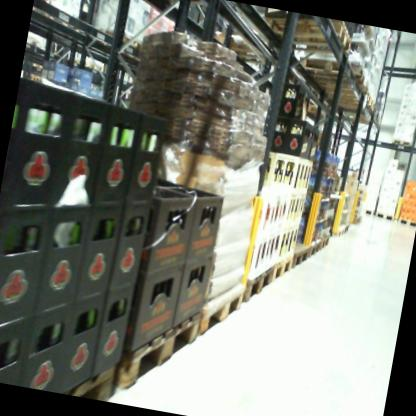pallet: (111, 280, 210, 402), (255, 7, 360, 66), (194, 20, 281, 75), (197, 271, 251, 344), (65, 341, 126, 403), (291, 49, 368, 86), (89, 21, 164, 57), (239, 255, 278, 310), (323, 89, 376, 114), (141, 0, 227, 15), (320, 84, 372, 107), (290, 238, 313, 275), (274, 256, 295, 292), (65, 52, 93, 73), (305, 232, 322, 263), (393, 132, 414, 151), (372, 210, 396, 224), (318, 230, 332, 254), (397, 214, 416, 230), (332, 221, 347, 241), (88, 59, 106, 74), (361, 203, 376, 217), (33, 0, 52, 11), (29, 72, 42, 84), (343, 221, 352, 235)
